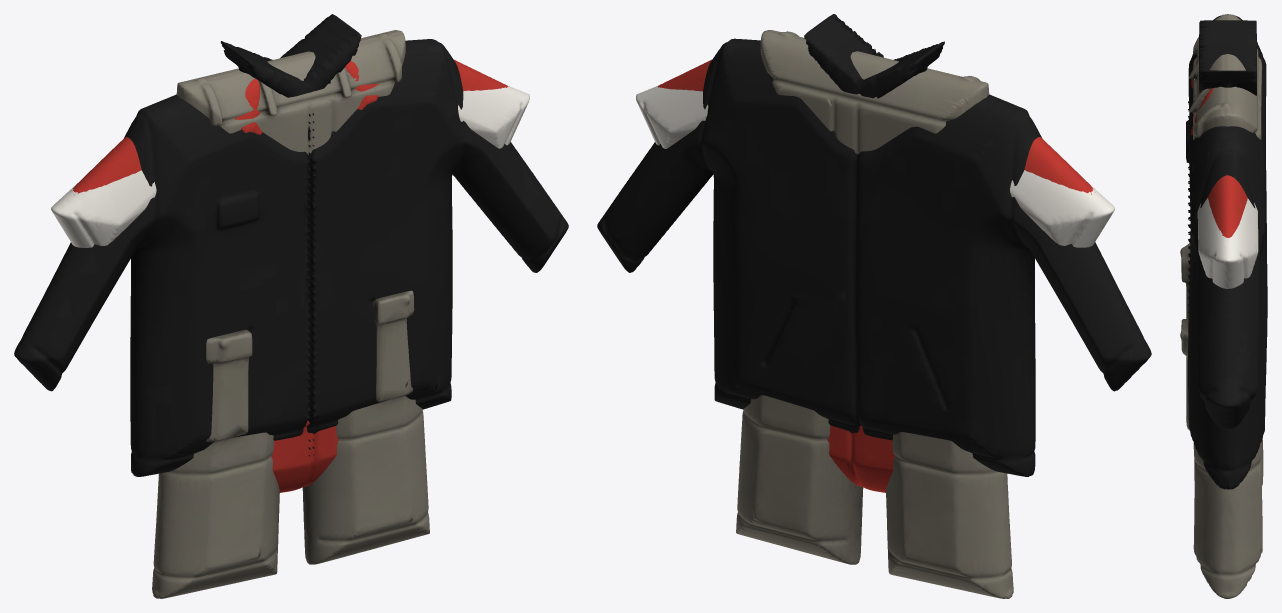
The model's file is depot.glb.
3 views of the same model, side by side, from view 1: azimuth 30°, elevation 25°; view 2: azimuth 150°, elevation 25°; view 3: azimuth 270°, elevation 25° (orthographic). The views are drawn at different scales.
Visible parts, largest first — view 1: jacket, pants, tee, shirt; view 2: jacket, pants, tee, shirt; view 3: jacket, pants, tee, shirt.
Boxes of the visible parts, bbox=[...] form: jacket: bbox=[14, 14, 568, 476]; pants: bbox=[152, 30, 429, 598]; tee: bbox=[51, 86, 529, 247]; shirt: bbox=[71, 59, 507, 492]; jacket: bbox=[597, 14, 1151, 476]; pants: bbox=[736, 30, 1013, 598]; tee: bbox=[636, 86, 1114, 247]; shirt: bbox=[658, 59, 1095, 492]; jacket: bbox=[1186, 15, 1267, 489]; pants: bbox=[1180, 14, 1263, 598]; tee: bbox=[1197, 198, 1258, 288]; shirt: bbox=[1191, 60, 1247, 237].
Bounding box in the file's own units: 1.63 × 1.51 × 0.24.
5 materials, 5 textured.
